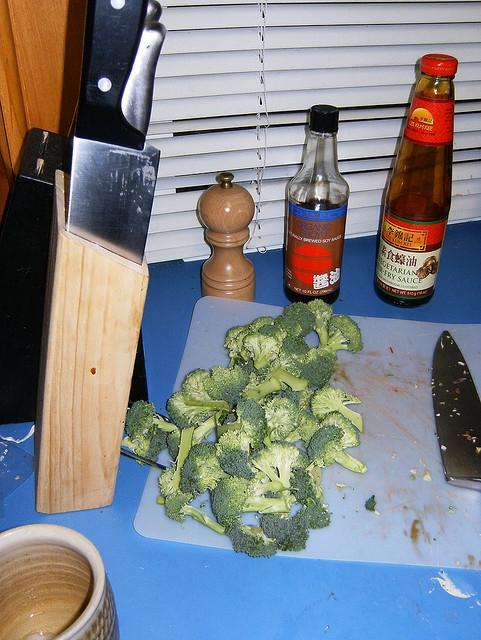broccoli: (209, 475, 291, 528), (307, 424, 368, 474), (164, 488, 226, 534), (179, 442, 231, 496), (216, 397, 268, 449), (310, 384, 364, 434), (158, 426, 196, 497), (167, 391, 232, 430), (166, 413, 216, 461), (250, 441, 300, 488), (240, 358, 308, 391), (225, 516, 277, 558), (124, 400, 178, 440), (214, 430, 256, 480), (262, 397, 302, 448), (121, 423, 168, 466), (260, 513, 310, 551), (202, 364, 249, 402), (299, 344, 338, 388), (236, 372, 282, 407), (320, 410, 360, 447), (242, 332, 282, 369), (326, 314, 362, 352), (286, 412, 321, 447), (284, 302, 316, 338), (278, 335, 310, 370), (182, 368, 213, 402), (223, 325, 247, 368), (280, 353, 306, 391), (289, 470, 317, 504), (302, 497, 330, 530), (273, 314, 301, 336), (258, 324, 288, 344), (248, 316, 276, 332)
